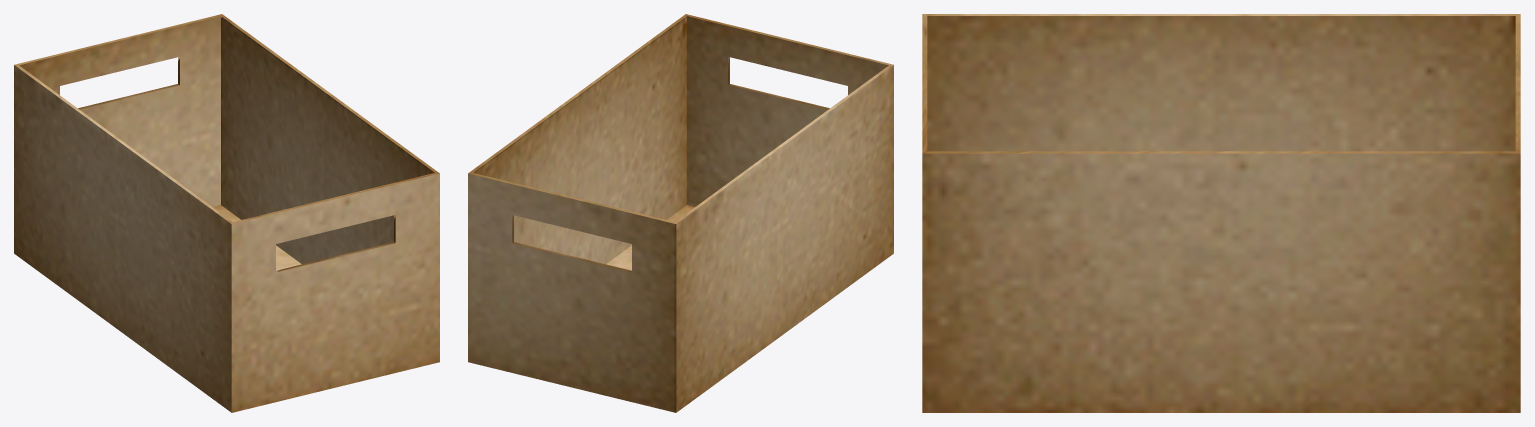
Rendered from psx-low-poly-wooden-bin.obj.
3 views of the same model, side by side, from view 1: azimuth 30°, elevation 25°; view 2: azimuth 150°, elevation 25°; view 3: azimuth 270°, elevation 25° (orthographic). The views are drawn at different scales.
Parts seen in each view (by area): view 1: obj3, obj1; view 2: obj3, obj1; view 3: obj1, obj3.
Boxes of the visible parts, x1,y1,x2,y2 form: obj3: (14, 14, 439, 412); obj1: (16, 65, 434, 411); obj3: (468, 14, 893, 412); obj1: (473, 65, 891, 412); obj1: (927, 14, 1515, 412); obj3: (922, 14, 1520, 412).
Bounding box in the file's own units: 1.03 × 0.8937 × 1.87.
Materials: 2 (1 with a texture image).
